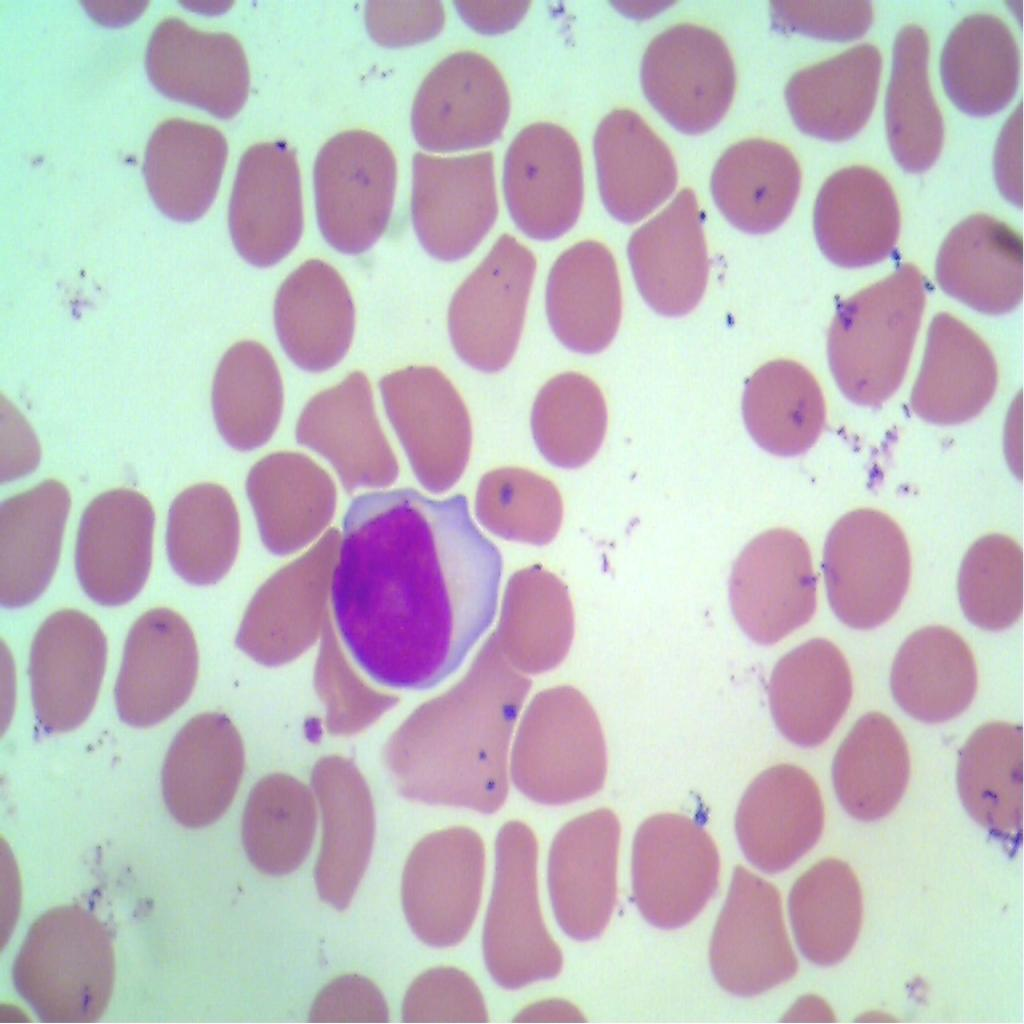Eritrosit: (475, 814, 574, 997), (822, 262, 930, 408), (438, 225, 531, 381), (142, 11, 262, 127), (306, 112, 400, 258), (821, 503, 921, 638), (699, 861, 801, 992), (106, 604, 204, 735), (24, 600, 111, 746), (542, 797, 628, 944), (510, 685, 609, 812), (722, 520, 820, 648), (640, 23, 746, 141), (406, 144, 508, 266), (911, 308, 1006, 438), (258, 252, 361, 371), (384, 360, 475, 494), (13, 904, 115, 1023), (218, 131, 308, 264), (298, 364, 396, 485), (764, 627, 861, 749), (306, 748, 378, 911), (630, 805, 728, 924), (398, 817, 486, 948), (136, 109, 226, 237), (589, 106, 683, 227), (781, 37, 886, 145), (876, 24, 953, 170), (161, 704, 244, 838), (233, 552, 323, 675), (406, 42, 510, 147), (728, 757, 829, 864), (951, 715, 1023, 865), (240, 444, 338, 554), (498, 111, 582, 238), (154, 472, 239, 594), (828, 704, 913, 825), (810, 164, 906, 271), (931, 208, 1023, 319), (793, 855, 878, 975), (69, 484, 156, 601), (938, 9, 1023, 128), (0, 475, 73, 611), (744, 349, 830, 462), (496, 562, 575, 681), (715, 138, 801, 244), (236, 764, 318, 874), (884, 617, 973, 718), (482, 458, 574, 552), (211, 328, 283, 442), (951, 530, 1023, 632)
Limfoblast: (335, 485, 509, 699)
Platelet: (298, 702, 328, 751)
